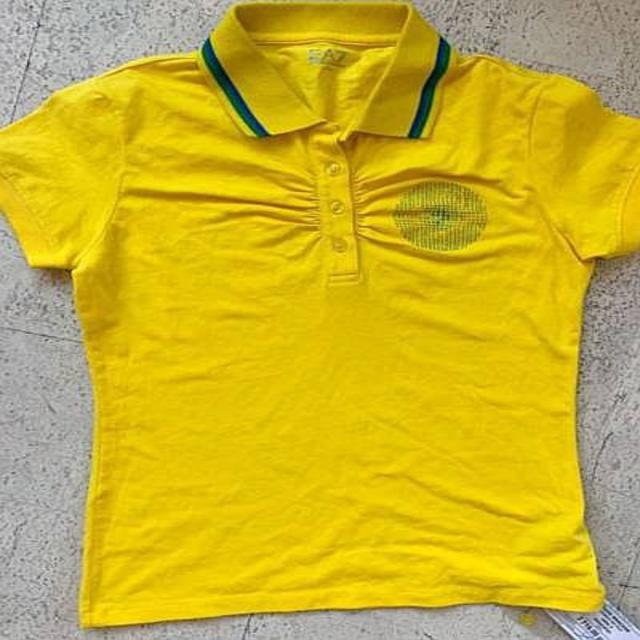T_SHIRT: (5, 2, 640, 637)
